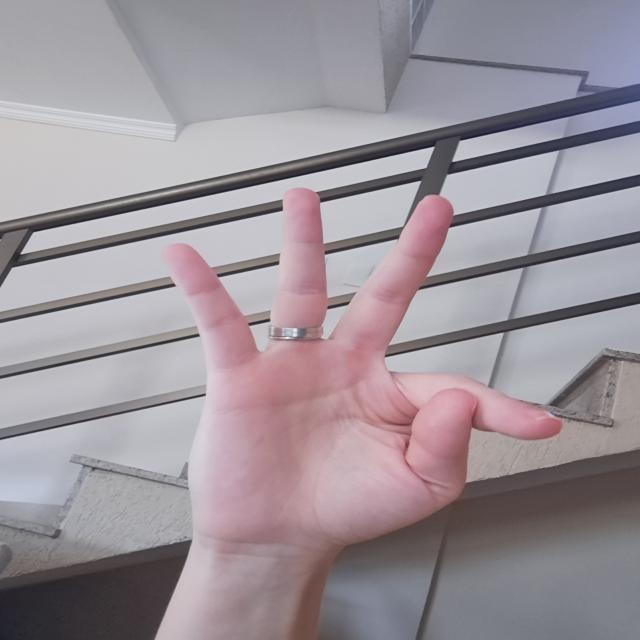T: (138, 178, 564, 551)
